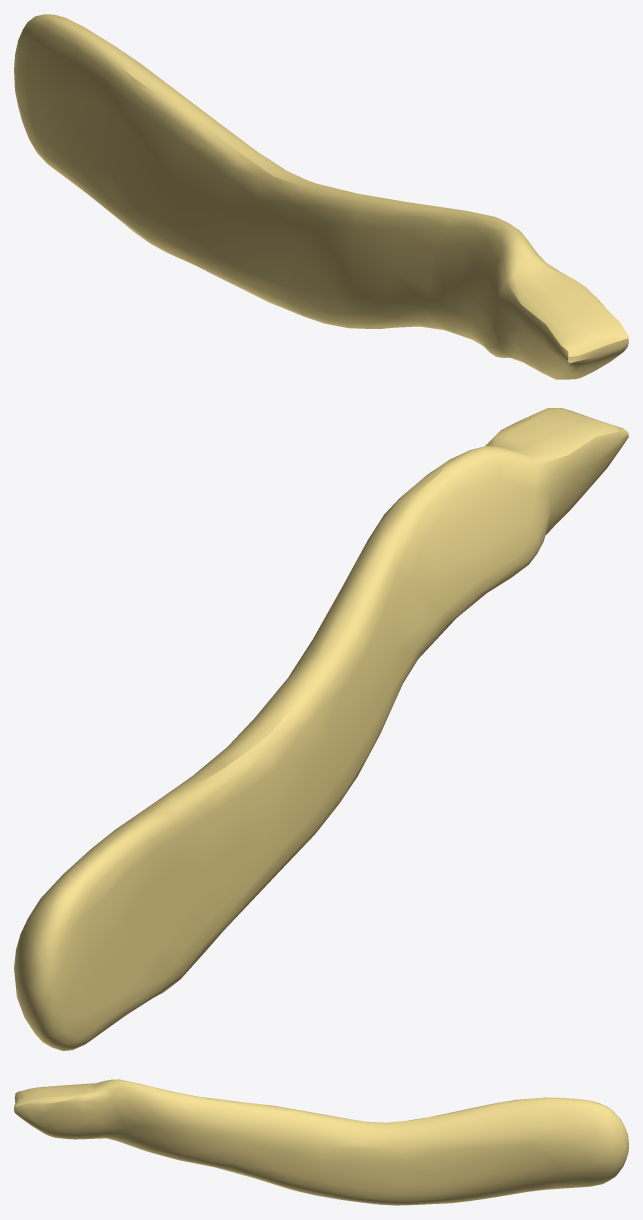
Rendered from fma62153-r_mm2796m.glb.
The picture shows the model from 3 angles, top to bottom: view 1: azimuth 30°, elevation 25°; view 2: azimuth 150°, elevation 25°; view 3: azimuth 270°, elevation 25°; orthographic projection. The views are drawn at different scales.
Visible parts, largest first — view 1: FMA62153-R_MM2796M; view 2: FMA62153-R_MM2796M; view 3: FMA62153-R_MM2796M.
Part boxes in pixels (x1,y1,x2,y2): FMA62153-R_MM2796M: [14, 14, 628, 379]; FMA62153-R_MM2796M: [14, 408, 628, 1050]; FMA62153-R_MM2796M: [14, 1079, 628, 1205].
Size of the model in its own units: 0.0017 by 0.00339 by 0.0145.
